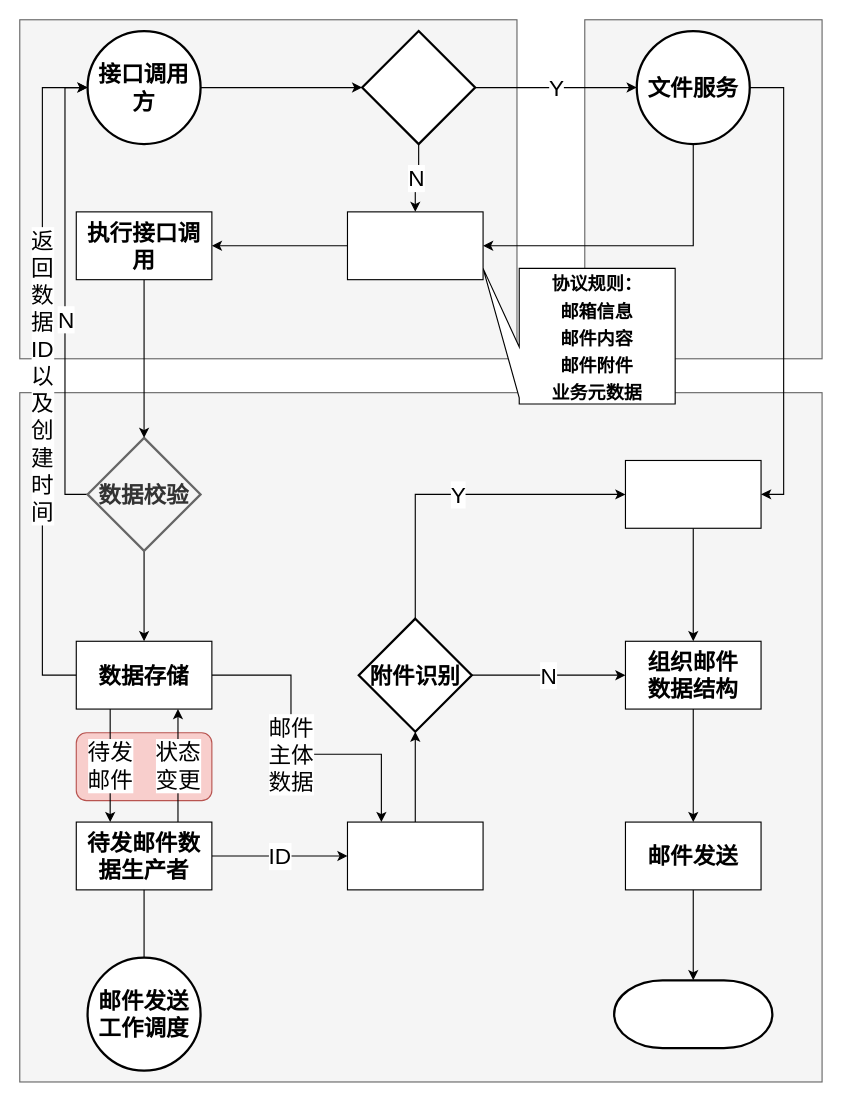
Some shapes in this 842 by 1102 pixel diagram are drawn without their labels. Each missing label, with the centre of its shape:
"包含附件" belongs at (418,87).
"待发邮件数据消费者" belongs at (414,855).
"按照协议组织邮件数据" belongs at (414,245).
"记录邮件数据以及发送结果" belongs at (692,1014).
"读取附件" belongs at (692,493).
